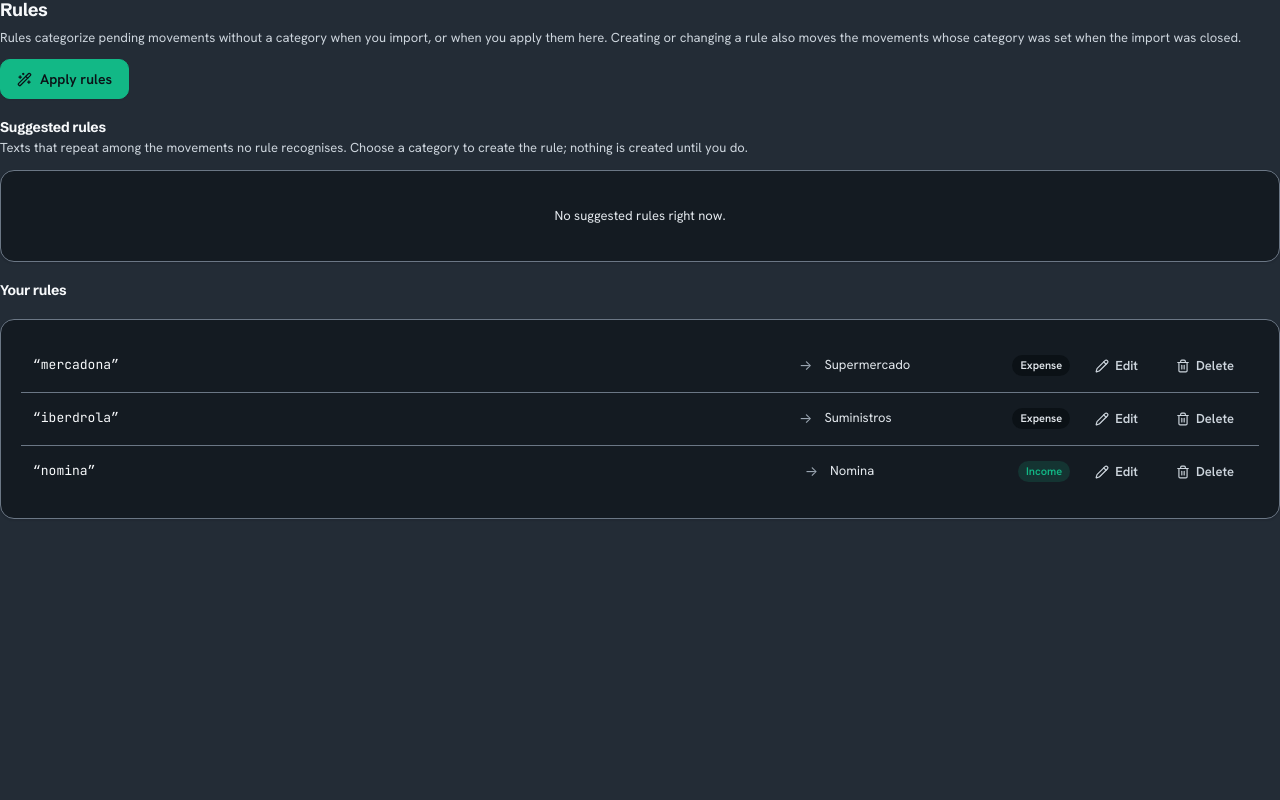
RulesView (R7, R8, R9, R10) › deletes on confirmation, and touches no movement (R9)
Click the button with test id "rule-delete" at (1205, 366), box [1163, 350, 1247, 382]
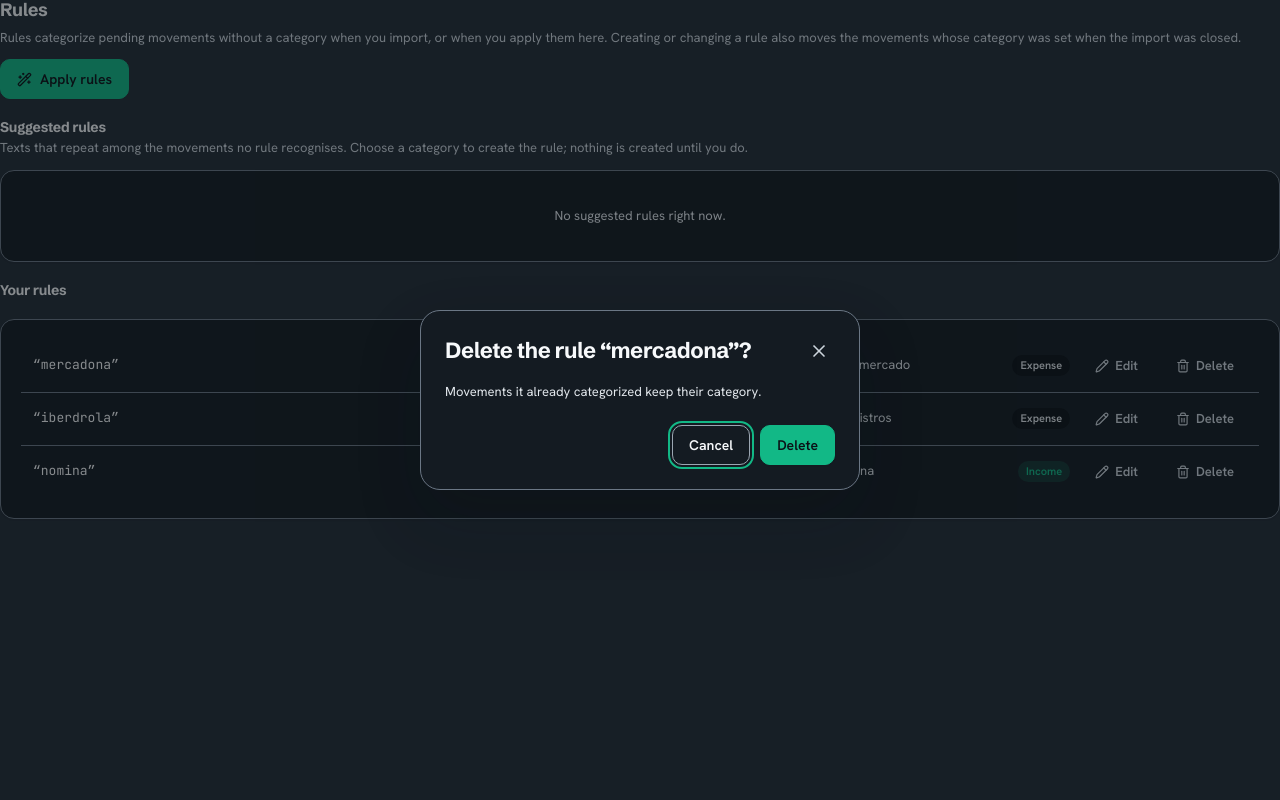
Click the button with test id "delete-confirm" at (798, 445), box [760, 425, 835, 465]
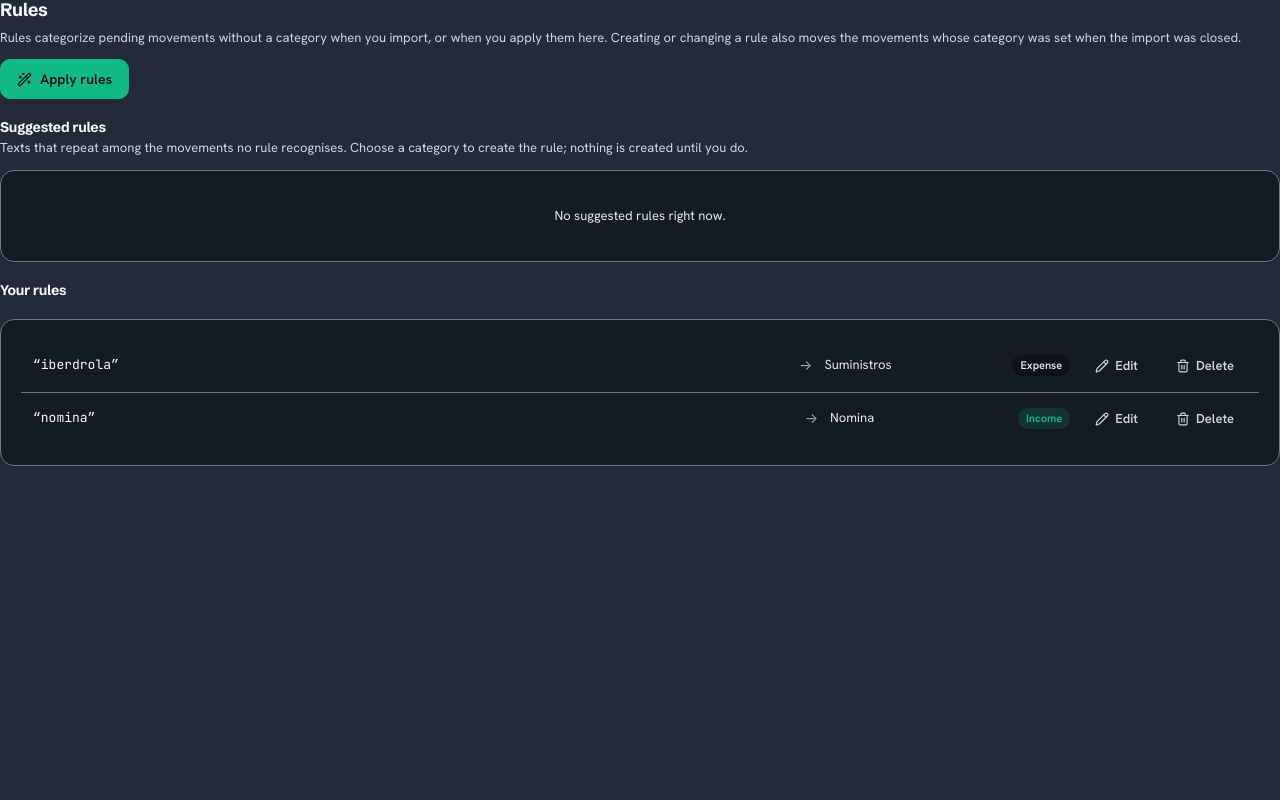
Expected: the number of list items with test id "rule-row" is 2, [21, 340, 1259, 393]; [21, 393, 1259, 445]
